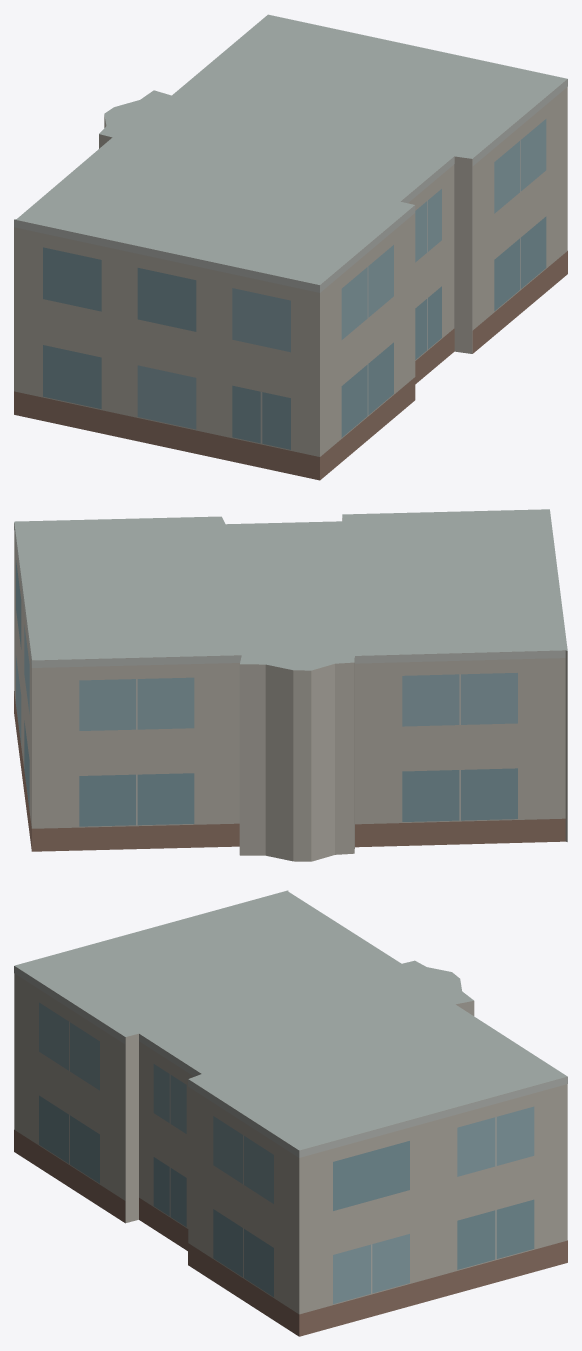
File: survey-upis-32922676.glb
3 views of the same model, one above another, from view 1: azimuth 30°, elevation 25°; view 2: azimuth 150°, elevation 25°; view 3: azimuth 270°, elevation 25° (orthographic). The views are drawn at different scales.
Parts seen in each view (by area): view 1: survey-upis-32922676.tmp; view 2: survey-upis-32922676.tmp; view 3: survey-upis-32922676.tmp.
Part boxes in pixels (<box>): survey-upis-32922676.tmp: <box>14,14,567,480</box>; survey-upis-32922676.tmp: <box>14,509,567,861</box>; survey-upis-32922676.tmp: <box>14,890,567,1336</box>.
Size of the model in its own units: 18.31 by 6.1 by 16.46.
